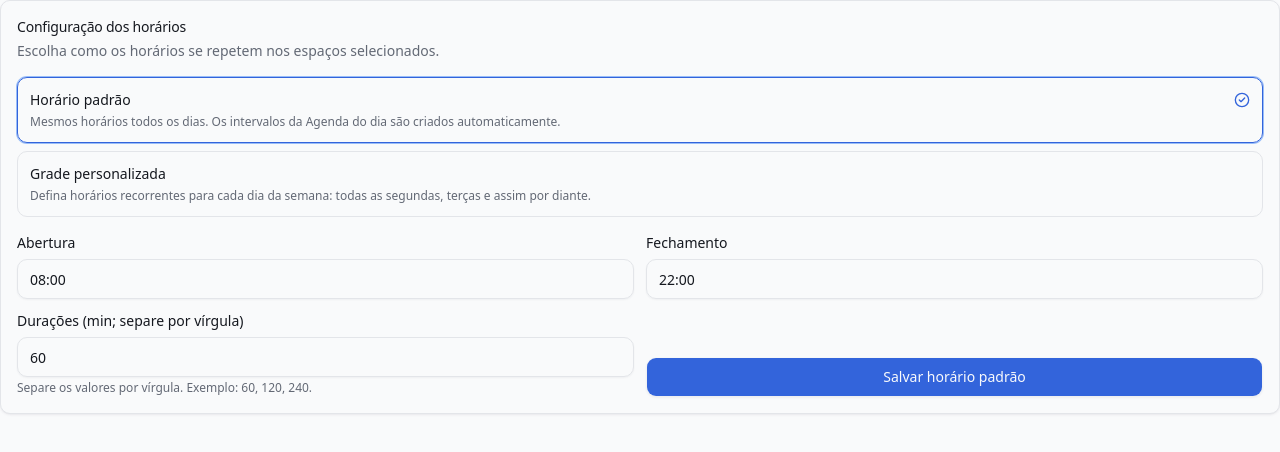
Test: SchedulePolicyPanel › shows the API's 400 message inline under the field when the save is rejected
Replace the text in the field labelled "Durações (min; separe por vírgula)" with "600": (326, 357) [17, 337, 634, 377]
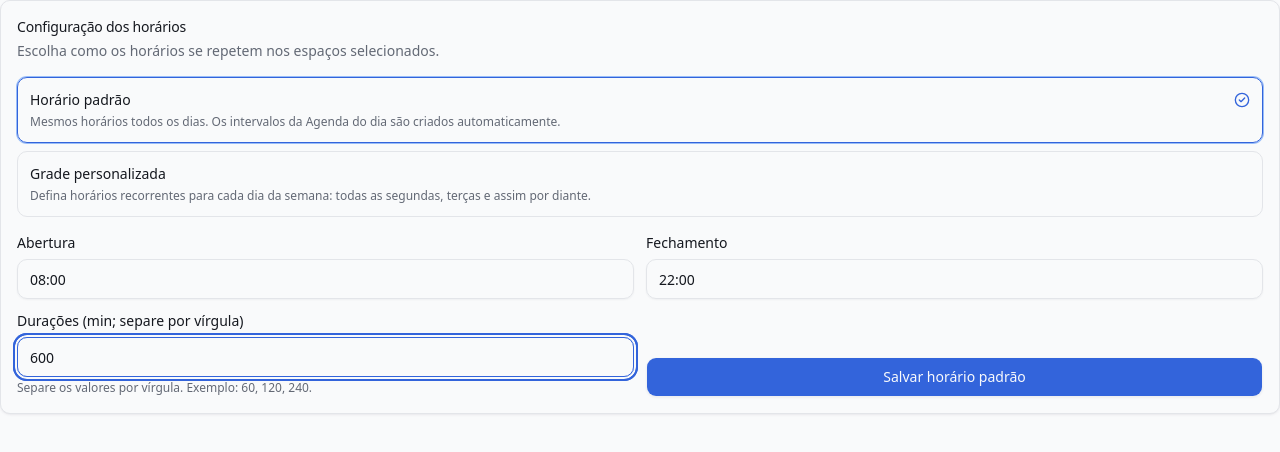
Click the button "Salvar horário padrão": click(954, 377) [646, 357, 1263, 397]
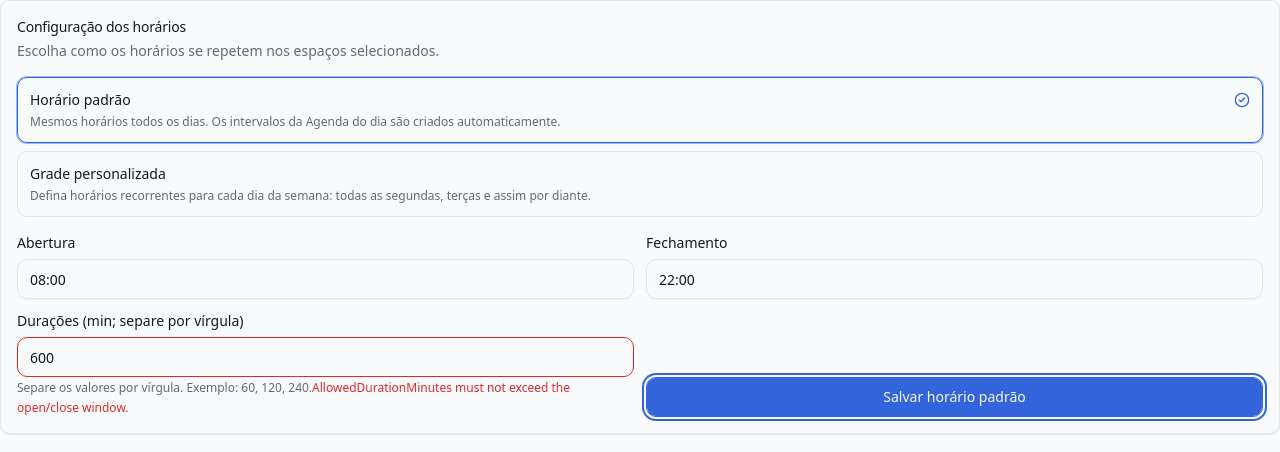
expect the message reads "AllowedDurationMinutes must not exceed the open/close window.": met, box [17, 379, 570, 416]
